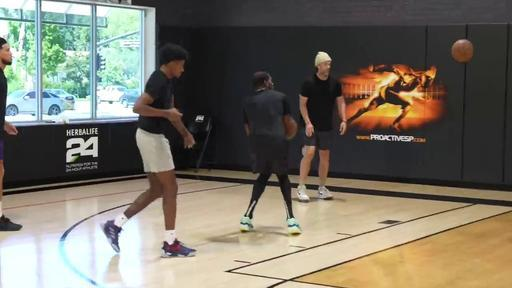ball: (452, 40, 474, 64)
human: (100, 43, 198, 257), (239, 71, 302, 235), (297, 50, 347, 202), (0, 36, 24, 232)
